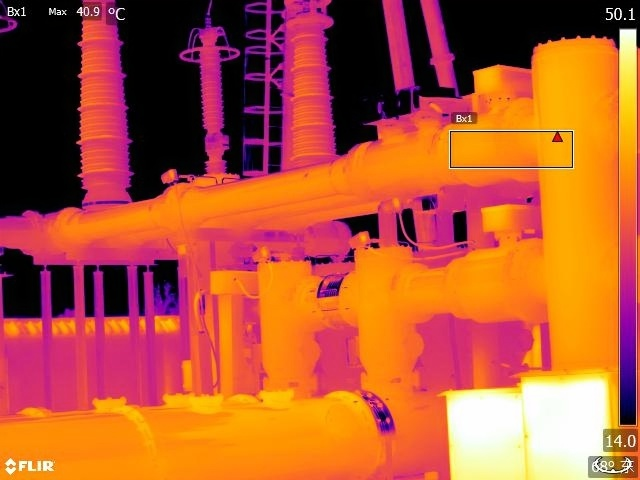lightning arrester: (175, 17, 239, 175)
tube: (68, 1, 135, 199), (279, 1, 341, 167)
